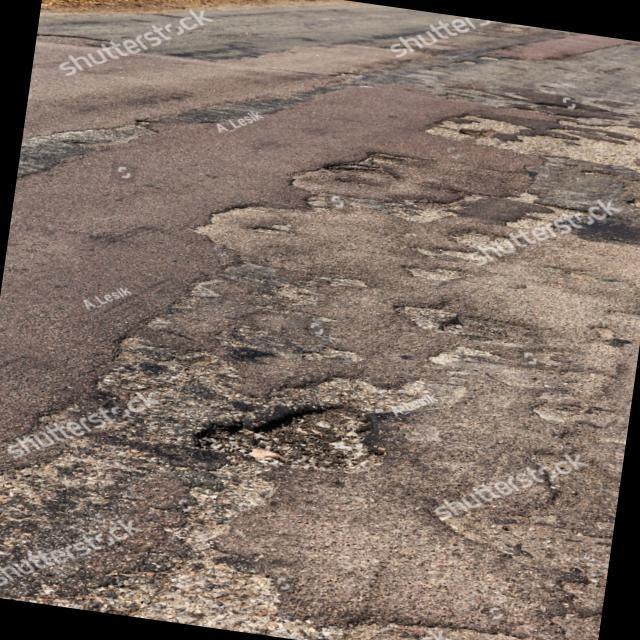Pothole: (117, 448, 616, 640), (188, 375, 414, 484), (422, 102, 640, 180), (18, 105, 158, 198), (306, 146, 422, 199), (383, 284, 482, 343), (401, 258, 490, 290)
